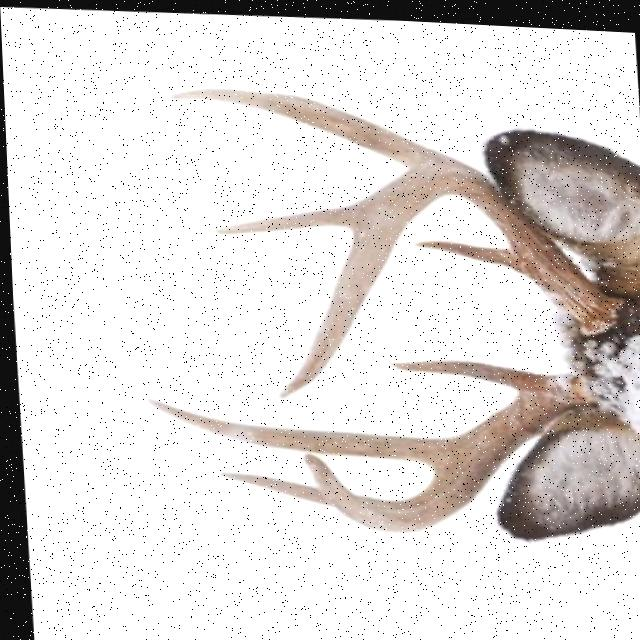L-F: (275, 157, 620, 396)
L-G1: (410, 234, 524, 268)
L-G2: (170, 84, 472, 163)
L-G3: (210, 198, 356, 231)
R-F: (299, 368, 594, 528)
R-G1: (386, 353, 546, 386)
R-G2: (143, 394, 449, 461)
